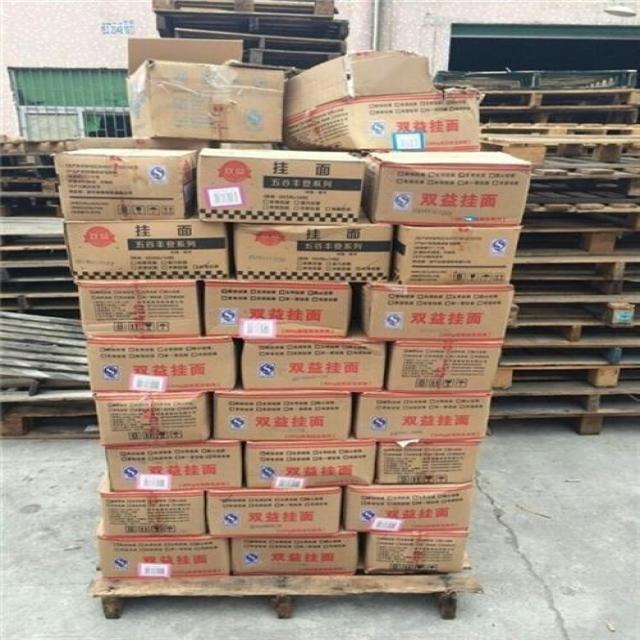box: (282, 54, 489, 153), (125, 36, 292, 142), (348, 150, 531, 224), (198, 141, 365, 221), (48, 144, 203, 220), (61, 215, 233, 281), (231, 222, 397, 282), (356, 282, 513, 343), (202, 280, 353, 337), (96, 520, 234, 581), (238, 337, 390, 392), (86, 339, 234, 395), (94, 468, 211, 538), (390, 225, 522, 284), (351, 389, 492, 441), (210, 484, 345, 536), (211, 392, 354, 440), (77, 283, 201, 338), (104, 444, 247, 490), (340, 483, 475, 531), (91, 394, 212, 447), (242, 444, 381, 485), (386, 342, 501, 389), (233, 534, 361, 575), (377, 440, 482, 486), (364, 531, 470, 575)
